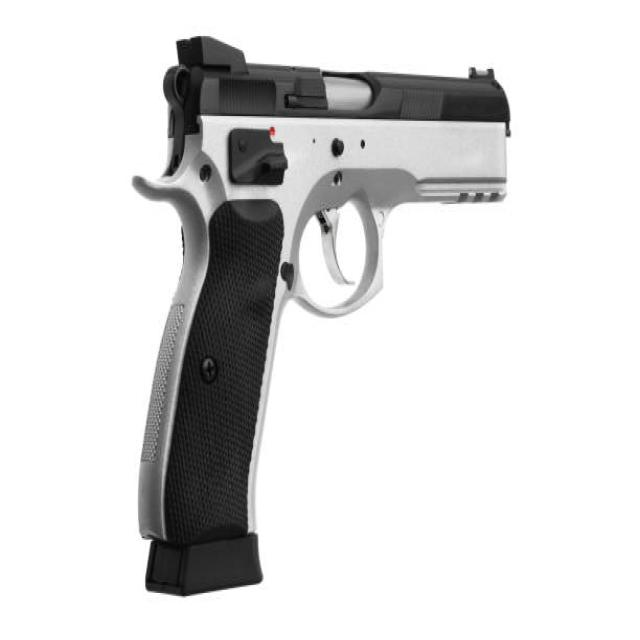pistol: (133, 23, 522, 604)
